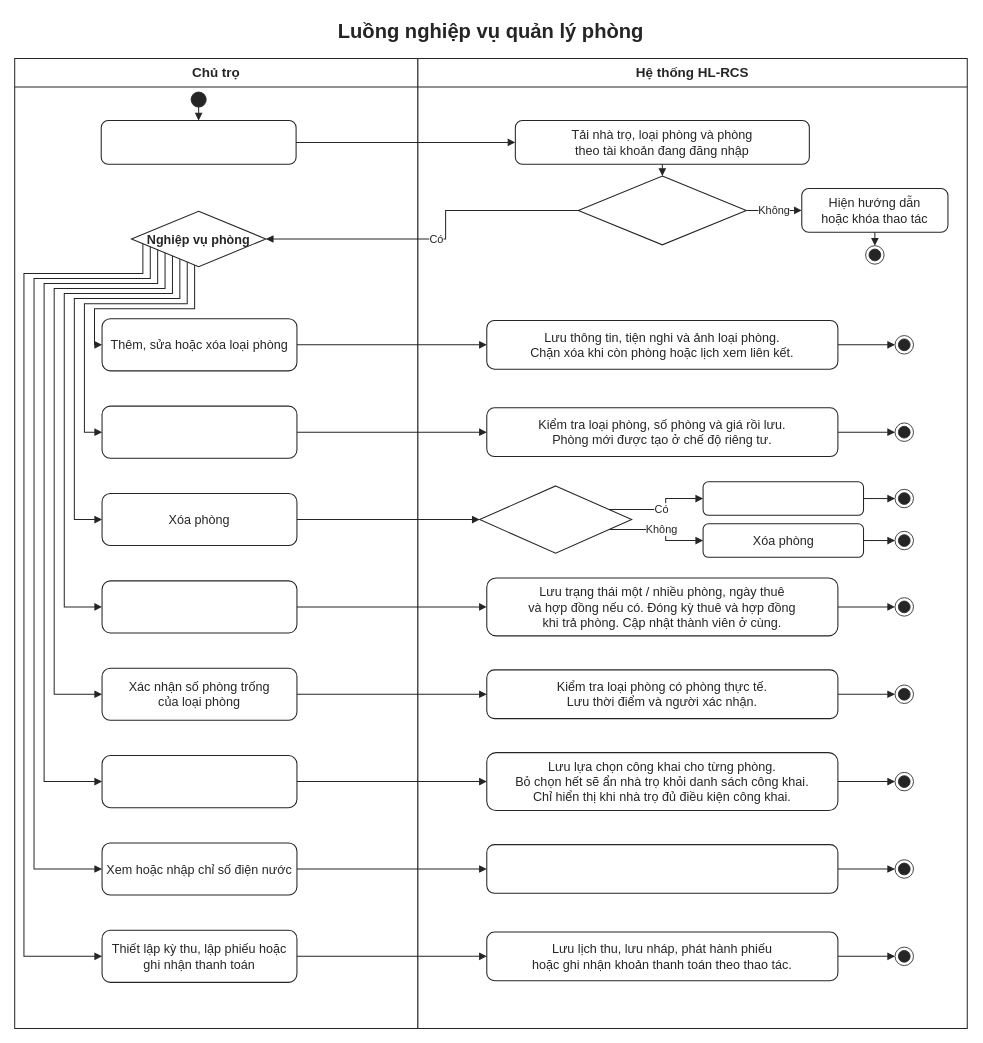
The diagram is 983 pixels wide and 1043 high, and some of its shapes have lost their labels. Each missing label, with the box of its shape:
Báo lỗi xóa phòng: (702, 481, 864, 516)
Chọn danh sách phòng công khai rồi lưu: (101, 755, 297, 808)
Mở Phòng hoặc Loại phòng: (100, 120, 296, 164)
Nhà trọ đủ điều kiện quản lý phòng?: (577, 175, 747, 245)
Phòng đang có người thuê?: (479, 485, 632, 553)
Thêm / sửa phòng hoặc thiết lập phòng theo lô: (101, 405, 297, 458)
Tải sổ điện nước theo tháng. Kiểm tra và lưu chỉ số của phòng / kỳ thuê.: (486, 844, 838, 894)
Đổi tình trạng phòng Quản lý người thuê, hợp đồng: (101, 580, 297, 633)
